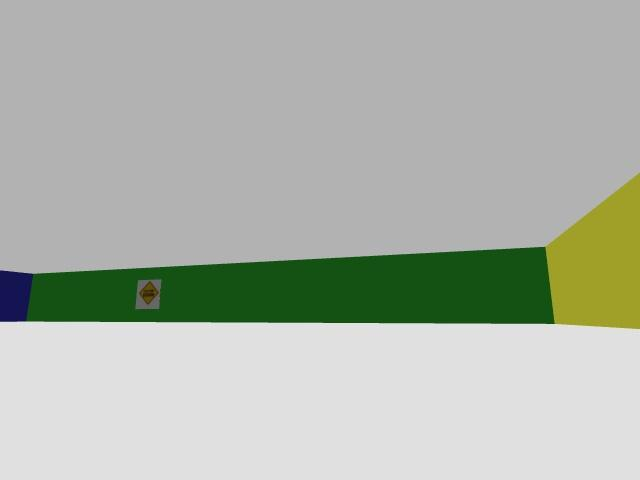slowsign: (136, 280, 161, 309)
